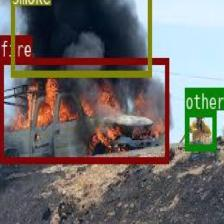fire: (0, 57, 168, 162)
smoke: (10, 0, 150, 75)
